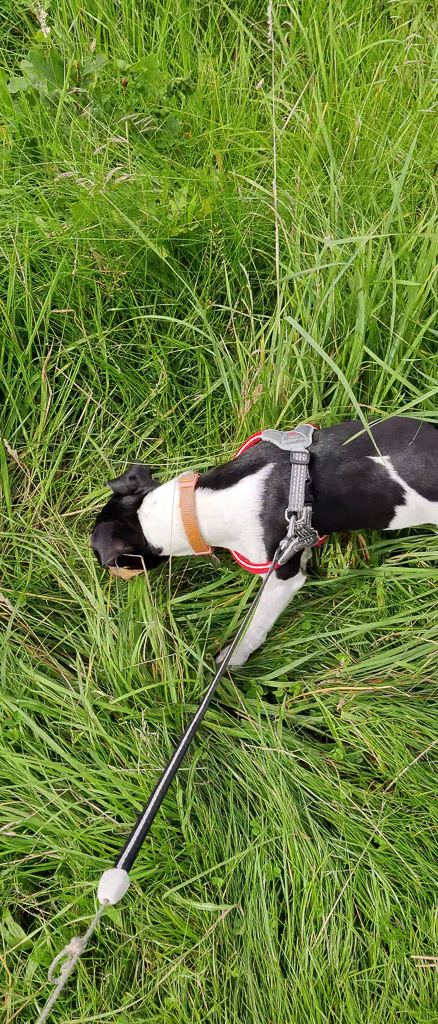Dog: (58, 382, 438, 687)
